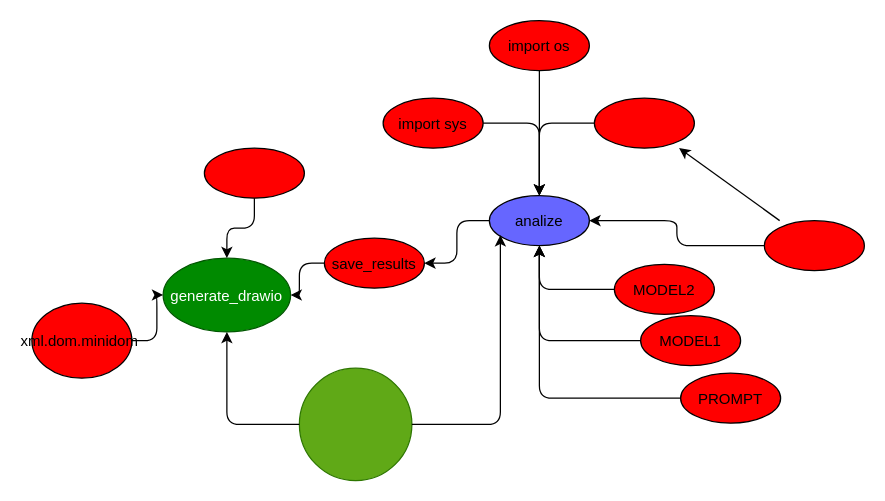
Some shapes in this 885 by 501 pixel diagram are drawn without their labels. Each missing label, with the box of its shape:
import ollama: (763, 219, 864, 271)
import pygraphviz as pgv: (203, 147, 304, 198)
import time: (593, 97, 694, 148)
main: (298, 367, 412, 481)
